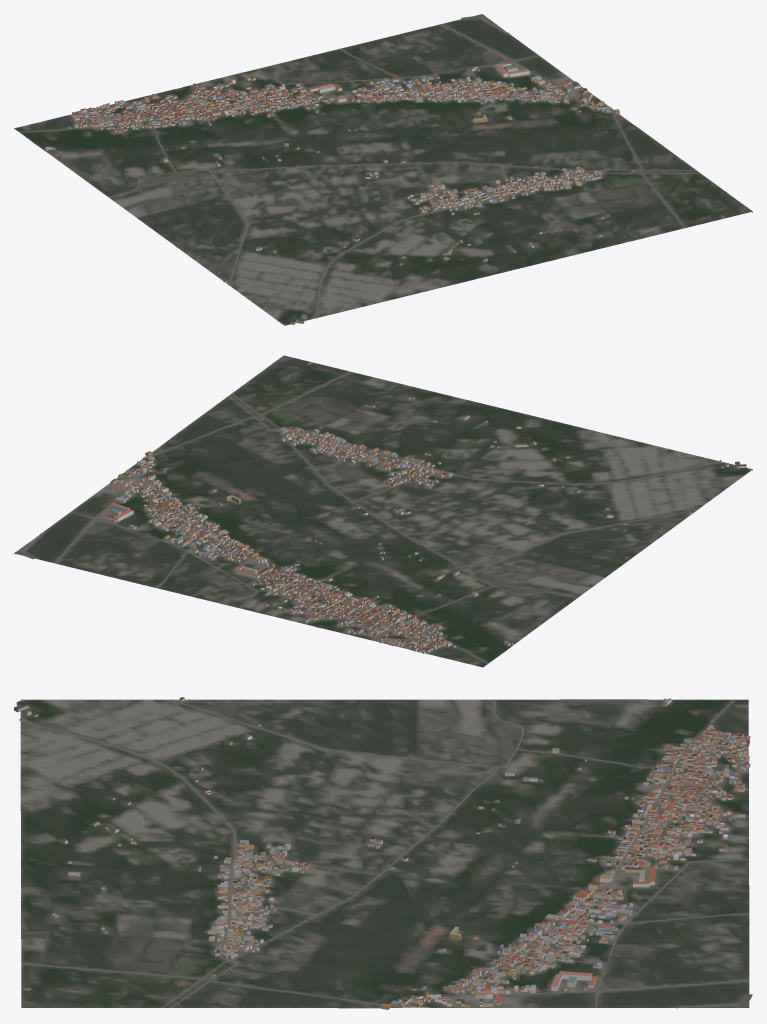
3 renders of one model, top to bottom at view 1: azimuth 30°, elevation 25°; view 2: azimuth 150°, elevation 25°; view 3: azimuth 270°, elevation 25°, orthographic. The views are drawn at different scales.
Parts seen in each view (by area): view 1: ground, buildings, roads; view 2: ground, buildings, roads; view 3: ground, buildings, roads.
Part boxes in pixels (x1,y1,x2,y2): ground: [14, 14, 752, 325]; buildings: [45, 62, 724, 324]; roads: [19, 15, 700, 325]; ground: [14, 355, 752, 667]; buildings: [101, 362, 746, 653]; roads: [15, 371, 751, 663]; ground: [20, 699, 749, 1008]; buildings: [14, 697, 750, 1009]; roads: [20, 699, 752, 1008].
Size of the model in its own units: 1413 by 14.87 by 1423.
